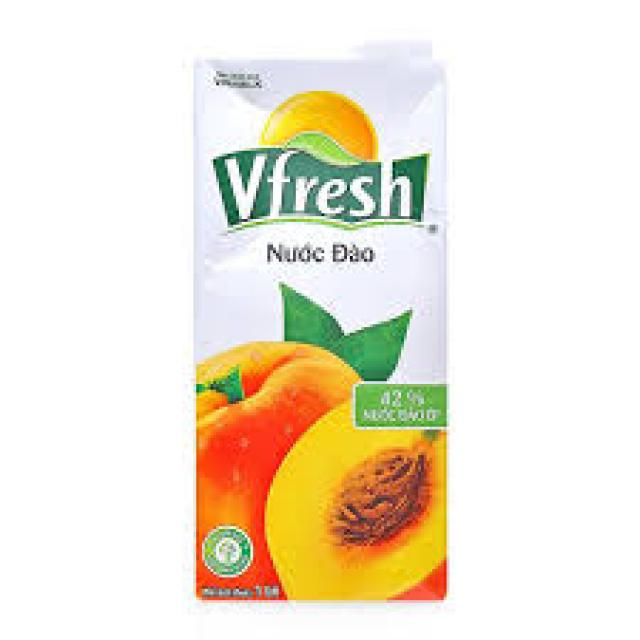non_white_jug: (166, 38, 468, 604)
